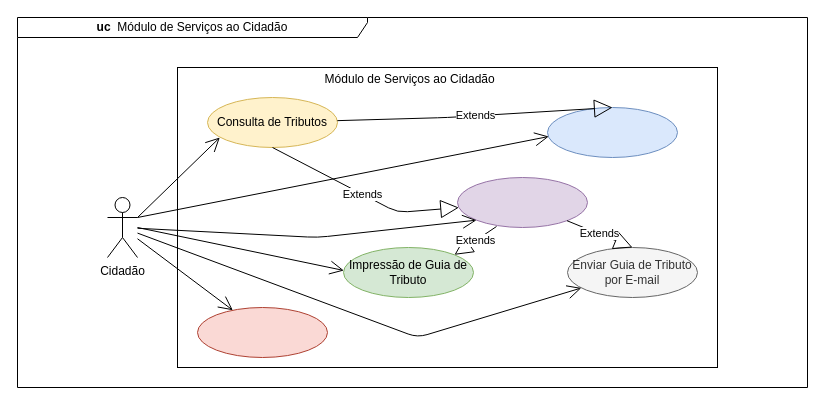
Some shapes in this 825 by 405 pixel diagram are drawn without their labels. Here are the shapes that lost their labels. From the top down, the centre of each, then its label:
At pixel 612 132: "Emissão de Guia de Tributo".
At pixel 522 202: "Emissão de 2ª Via da Guia de Tributo".
At pixel 262 332: "Catálogo de Serviços".
